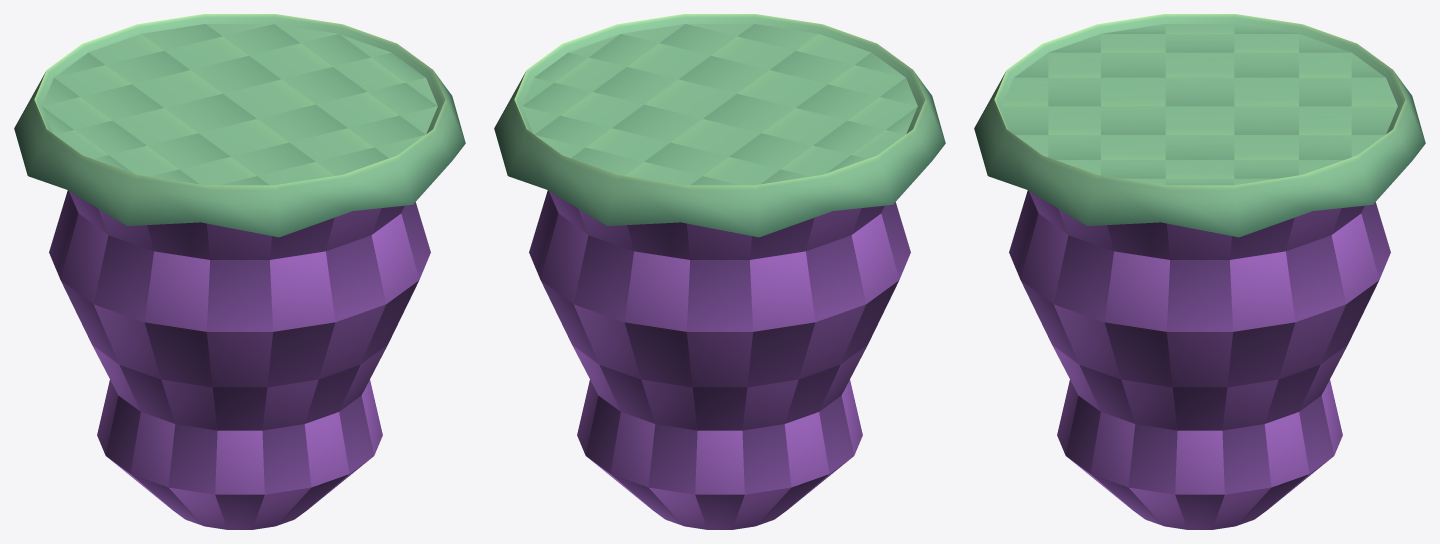
File: Fbx_Islands.fbx_Tall.fbx
The picture shows the model from 3 angles, left to right: view 1: azimuth 30°, elevation 25°; view 2: azimuth 150°, elevation 25°; view 3: azimuth 270°, elevation 25°; orthographic projection.
Visible parts, largest first — view 1: Island Tall; view 2: Island Tall; view 3: Island Tall.
Part boxes in pixels (x1,y1,x2,y2): Island Tall: (14, 14, 465, 529); Island Tall: (494, 14, 945, 529); Island Tall: (974, 14, 1425, 529).
Size of the model in its own units: 6.74 by 6.7 by 6.85.
